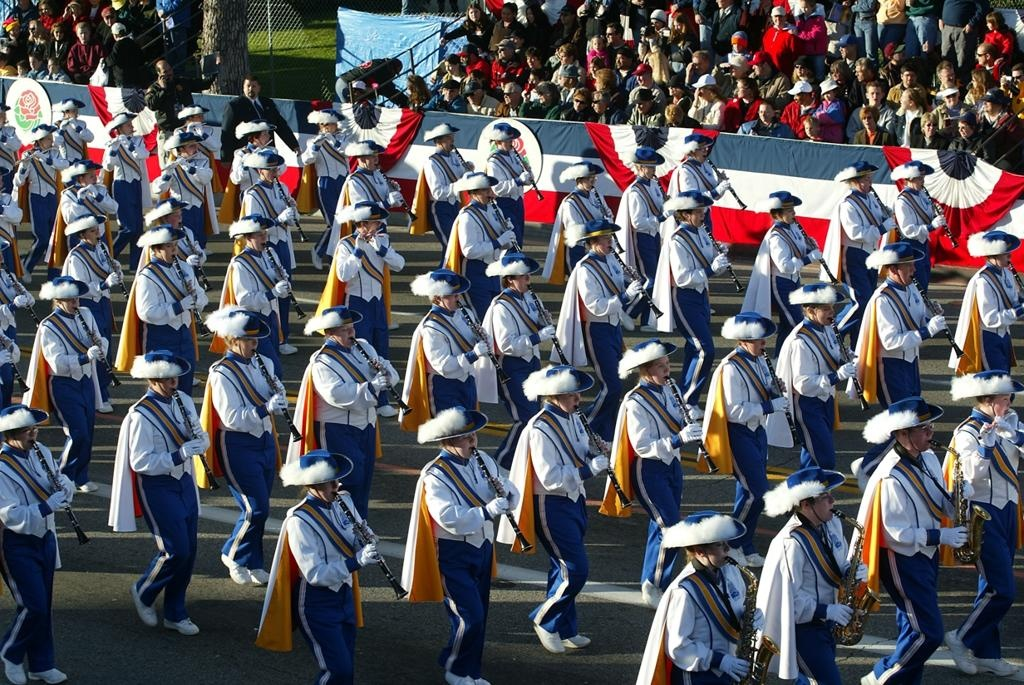human_face: (809, 482, 835, 520), (702, 532, 730, 566), (906, 416, 932, 450), (451, 427, 475, 459), (648, 353, 670, 385), (990, 387, 1010, 419), (558, 385, 580, 413), (314, 476, 338, 501), (16, 420, 38, 447), (896, 256, 916, 284), (236, 334, 258, 358), (332, 323, 354, 347), (815, 298, 835, 324), (440, 288, 462, 310), (159, 239, 179, 263), (156, 374, 178, 394), (745, 334, 765, 356), (60, 292, 78, 314), (595, 231, 611, 255), (250, 229, 266, 252), (512, 270, 530, 290), (84, 222, 100, 244), (688, 205, 704, 225), (476, 184, 492, 204), (166, 206, 180, 228), (262, 164, 278, 182), (243, 79, 259, 97), (996, 246, 1010, 266), (856, 173, 870, 193), (82, 166, 96, 186), (782, 203, 796, 222), (182, 140, 198, 156), (120, 118, 134, 136), (319, 117, 333, 135), (40, 130, 54, 148), (364, 151, 378, 169), (940, 68, 954, 86), (634, 96, 648, 114), (590, 95, 604, 113), (502, 86, 516, 104), (348, 87, 364, 102), (958, 119, 972, 136), (642, 160, 656, 177), (868, 86, 882, 103), (365, 218, 379, 234), (440, 133, 454, 149), (256, 128, 270, 144), (160, 64, 174, 80), (854, 64, 868, 80), (924, 117, 936, 134), (902, 71, 916, 85), (892, 46, 906, 60), (910, 174, 922, 190), (695, 145, 707, 161), (862, 111, 874, 127), (1010, 70, 1022, 86), (759, 104, 771, 120), (573, 94, 585, 110), (730, 62, 742, 78), (467, 88, 479, 104), (982, 96, 994, 111), (899, 90, 909, 108), (976, 46, 986, 64), (692, 56, 702, 74), (583, 174, 595, 188), (500, 135, 512, 149), (191, 111, 203, 125), (944, 91, 956, 105), (594, 76, 606, 90), (501, 6, 513, 20), (497, 45, 509, 59), (77, 27, 89, 41), (52, 26, 64, 40), (752, 59, 762, 75), (526, 52, 536, 68), (772, 12, 784, 25), (102, 13, 114, 26), (822, 88, 834, 100), (794, 91, 806, 103), (66, 106, 76, 120), (804, 122, 814, 136), (736, 82, 746, 96), (636, 71, 646, 85), (697, 82, 707, 96), (616, 53, 626, 67), (606, 28, 616, 42), (560, 50, 570, 64), (558, 72, 568, 86), (538, 90, 548, 104), (528, 72, 538, 86), (444, 60, 454, 74), (28, 56, 38, 70), (800, 2, 810, 16), (830, 68, 840, 80), (794, 62, 804, 74), (668, 82, 678, 94), (592, 39, 602, 51), (588, 62, 598, 74), (673, 20, 683, 32), (560, 11, 570, 23), (444, 86, 454, 98), (460, 52, 470, 64), (469, 74, 479, 86), (406, 80, 416, 92), (971, 74, 979, 88), (28, 22, 36, 36), (732, 40, 742, 50), (468, 10, 478, 20), (501, 78, 511, 88), (40, 4, 50, 14), (986, 18, 994, 30), (527, 8, 535, 20), (47, 59, 55, 71), (650, 19, 658, 30), (839, 46, 847, 56), (513, 36, 521, 46), (16, 65, 24, 75), (68, 4, 76, 14), (718, 0, 728, 7), (556, 46, 564, 54), (9, 27, 15, 35)
